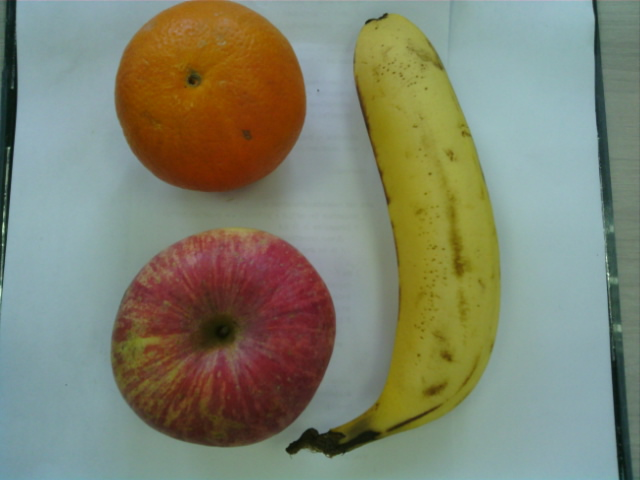normal_apple: (107, 226, 337, 450)
normal_banana: (344, 10, 503, 458)
normal_orange: (113, 1, 308, 195)
